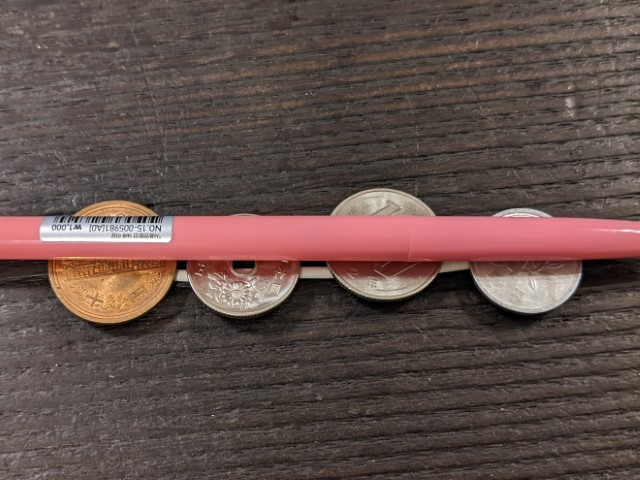100yen: (324, 188, 443, 302)
10yen: (49, 200, 177, 326)
1yen: (466, 208, 582, 315)
50yen: (187, 214, 300, 319)
